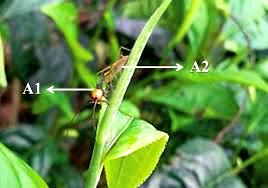Helopeltis-insect: (100, 52, 128, 81), (86, 83, 112, 107)
